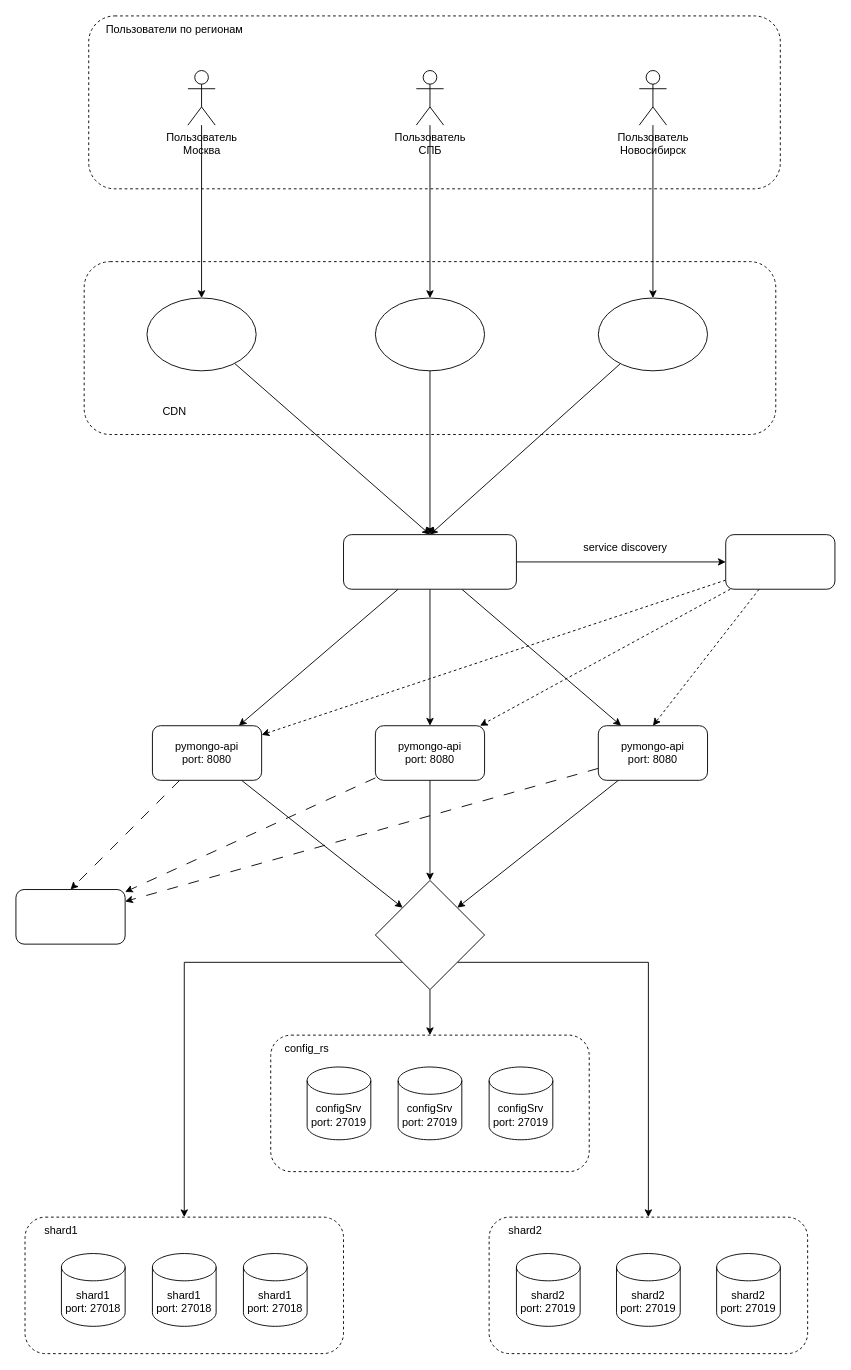
Image size: 851x1370. Some labels were removed from this diagram. Each missing label, with the centre of its shape:
API Gateway (nginx) :80: the point at 429,561
CDN Node Москва: the point at 201,334
CDN Node Новосибирск: the point at 652,334
CDN Node СПБ: the point at 429,334
Consul service discovery: the point at 780,561
mongos (router) port: 27017: the point at 429,935
redis port: 6379: the point at 70,916
